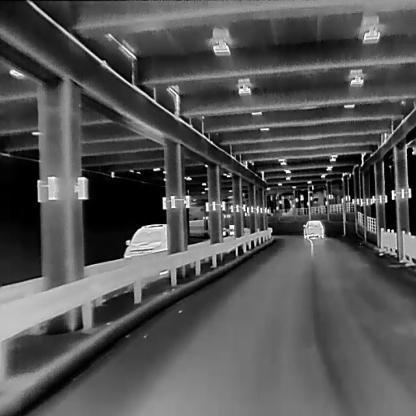car: (125, 223, 168, 256), (301, 219, 324, 238)
